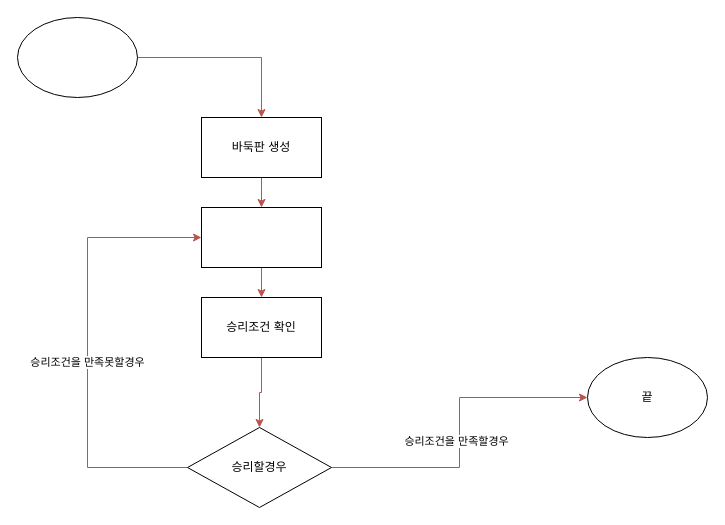
Image size: 725x525. Some labels were removed from this diagram. Each missing label, with the box of its shape:
바둑판 클릭 (바둑돌생성): (200, 206, 322, 268)
시작: (16, 16, 138, 98)
